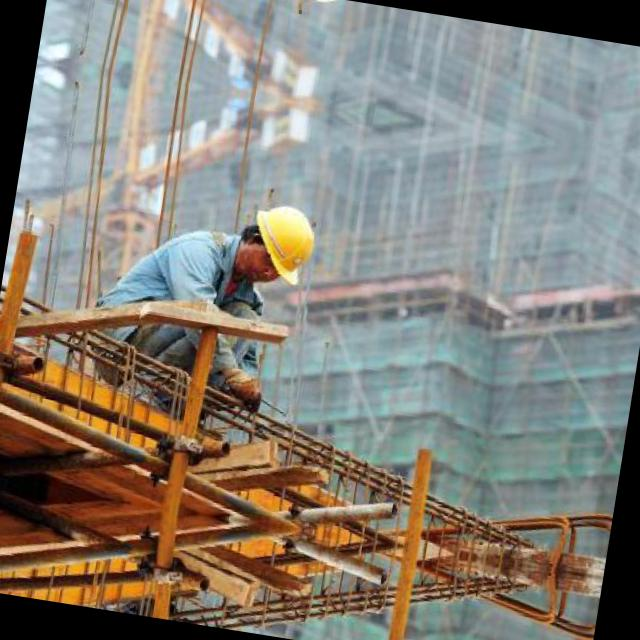helmet: (222, 197, 326, 298)
